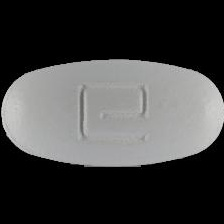43353-032: (0, 0, 224, 224)
